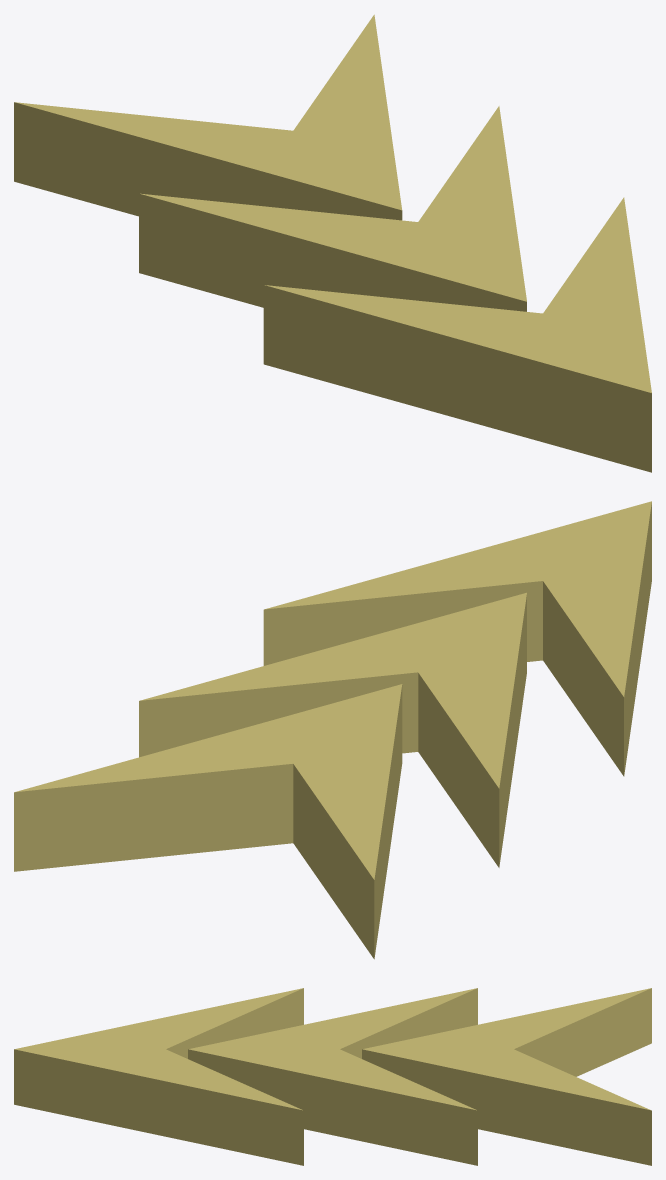
The model's file is speed powerup.fbx.
3 views of the same model, one above another, from view 1: azimuth 30°, elevation 25°; view 2: azimuth 150°, elevation 25°; view 3: azimuth 270°, elevation 25° (orthographic). The views are drawn at different scales.
Parts seen in each view (by area): view 1: Cube_3; view 2: Cube_3; view 3: Cube_3.
Boxes of the visible parts, x1,y1,x2,y2 form: Cube_3: [14, 14, 651, 472]; Cube_3: [14, 501, 651, 959]; Cube_3: [14, 988, 651, 1165].
Bounding box in the file's own units: 200 × 42.16 × 440.
